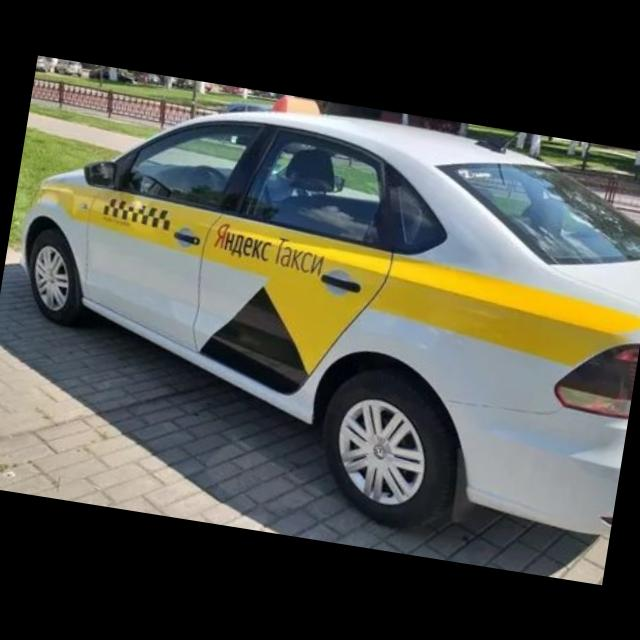taxi: (1, 57, 640, 561)
